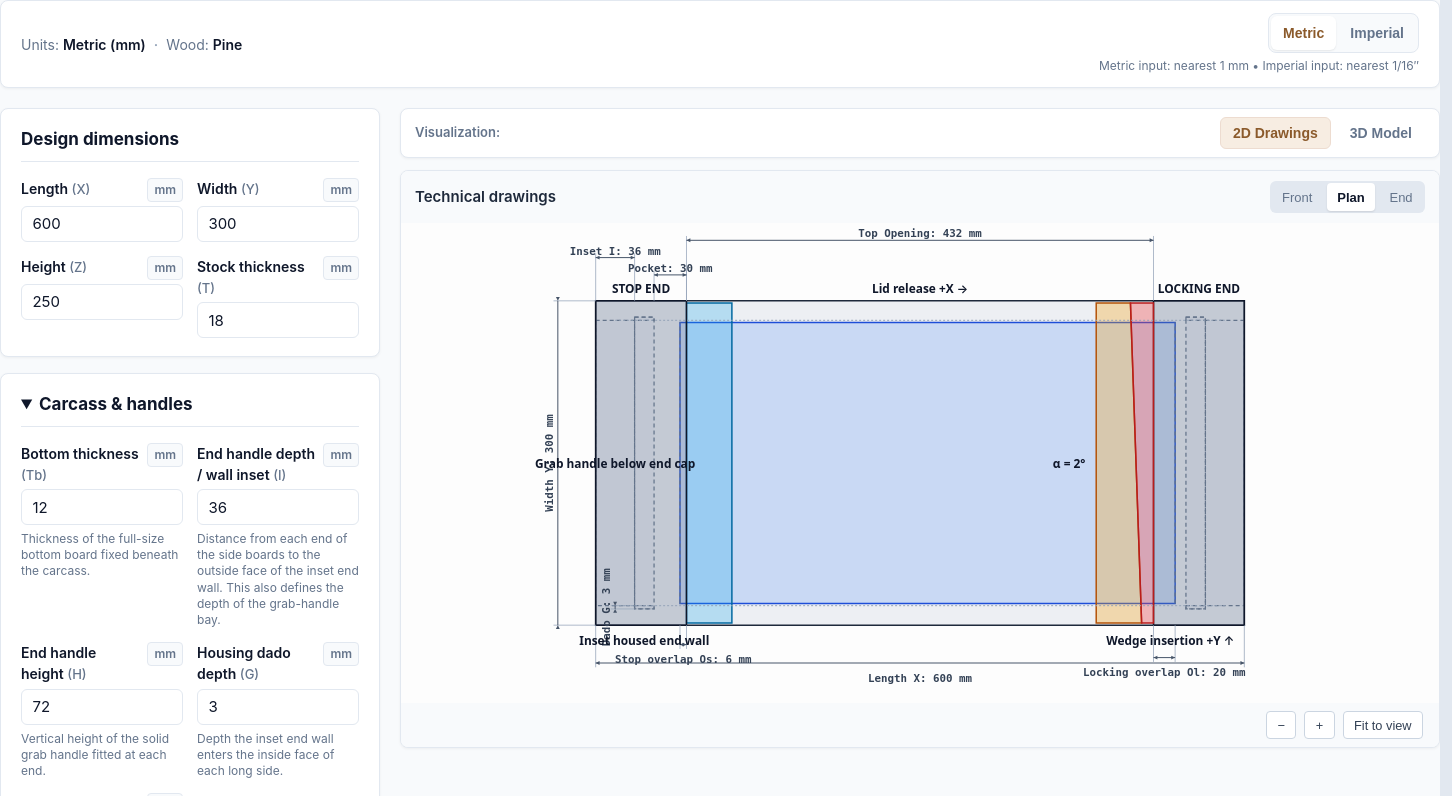
it: DesignEditor Component › switches between 2D Technical Drawings and 3D Interactive Model views
Expected: the heading "Technical drawings" is shown, x1=415 y1=186 x2=556 y2=208
// Switch to 3D Model
Click the tab "3D Model" at {"x": 1381, "y": 133}, box x1=1337 y1=117 x2=1425 y2=149
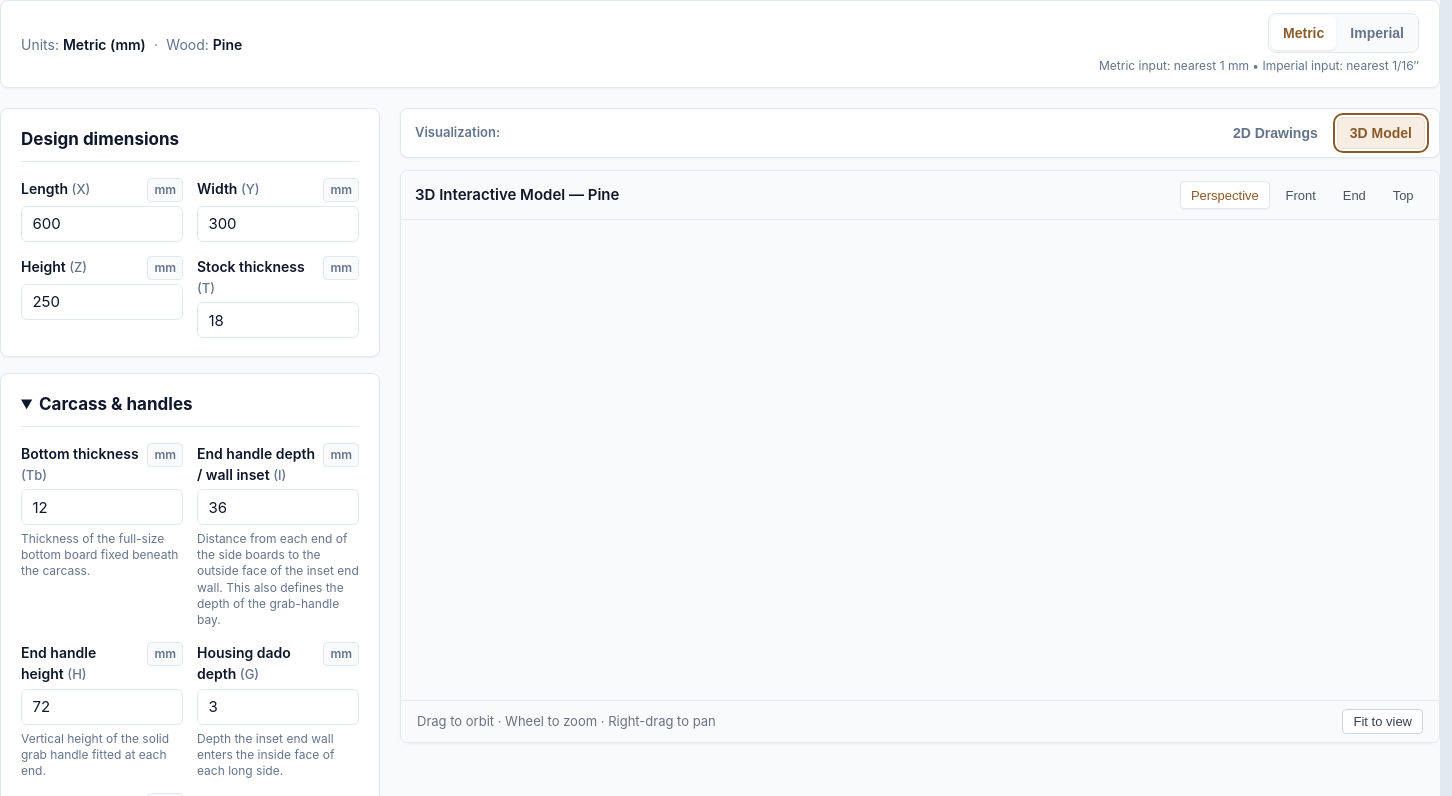
Now the heading "3D Interactive Model — Pine" is shown, box x1=415 y1=184 x2=619 y2=206
// Switch back to 2D
Click the tab "2D Drawings" at {"x": 1275, "y": 133}, box x1=1220 y1=117 x2=1331 y2=149
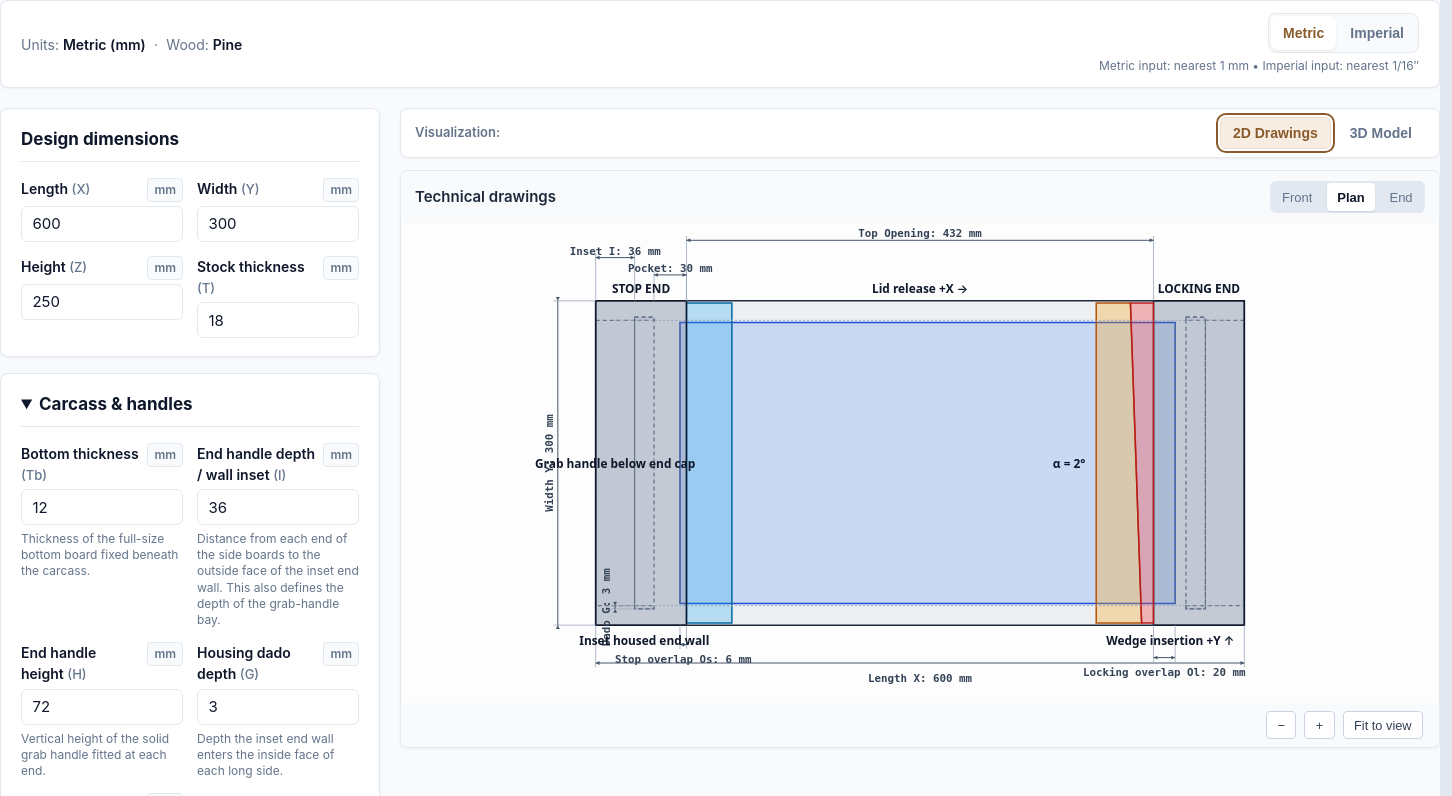
Now the heading "Technical drawings" is shown, box x1=415 y1=186 x2=556 y2=208
